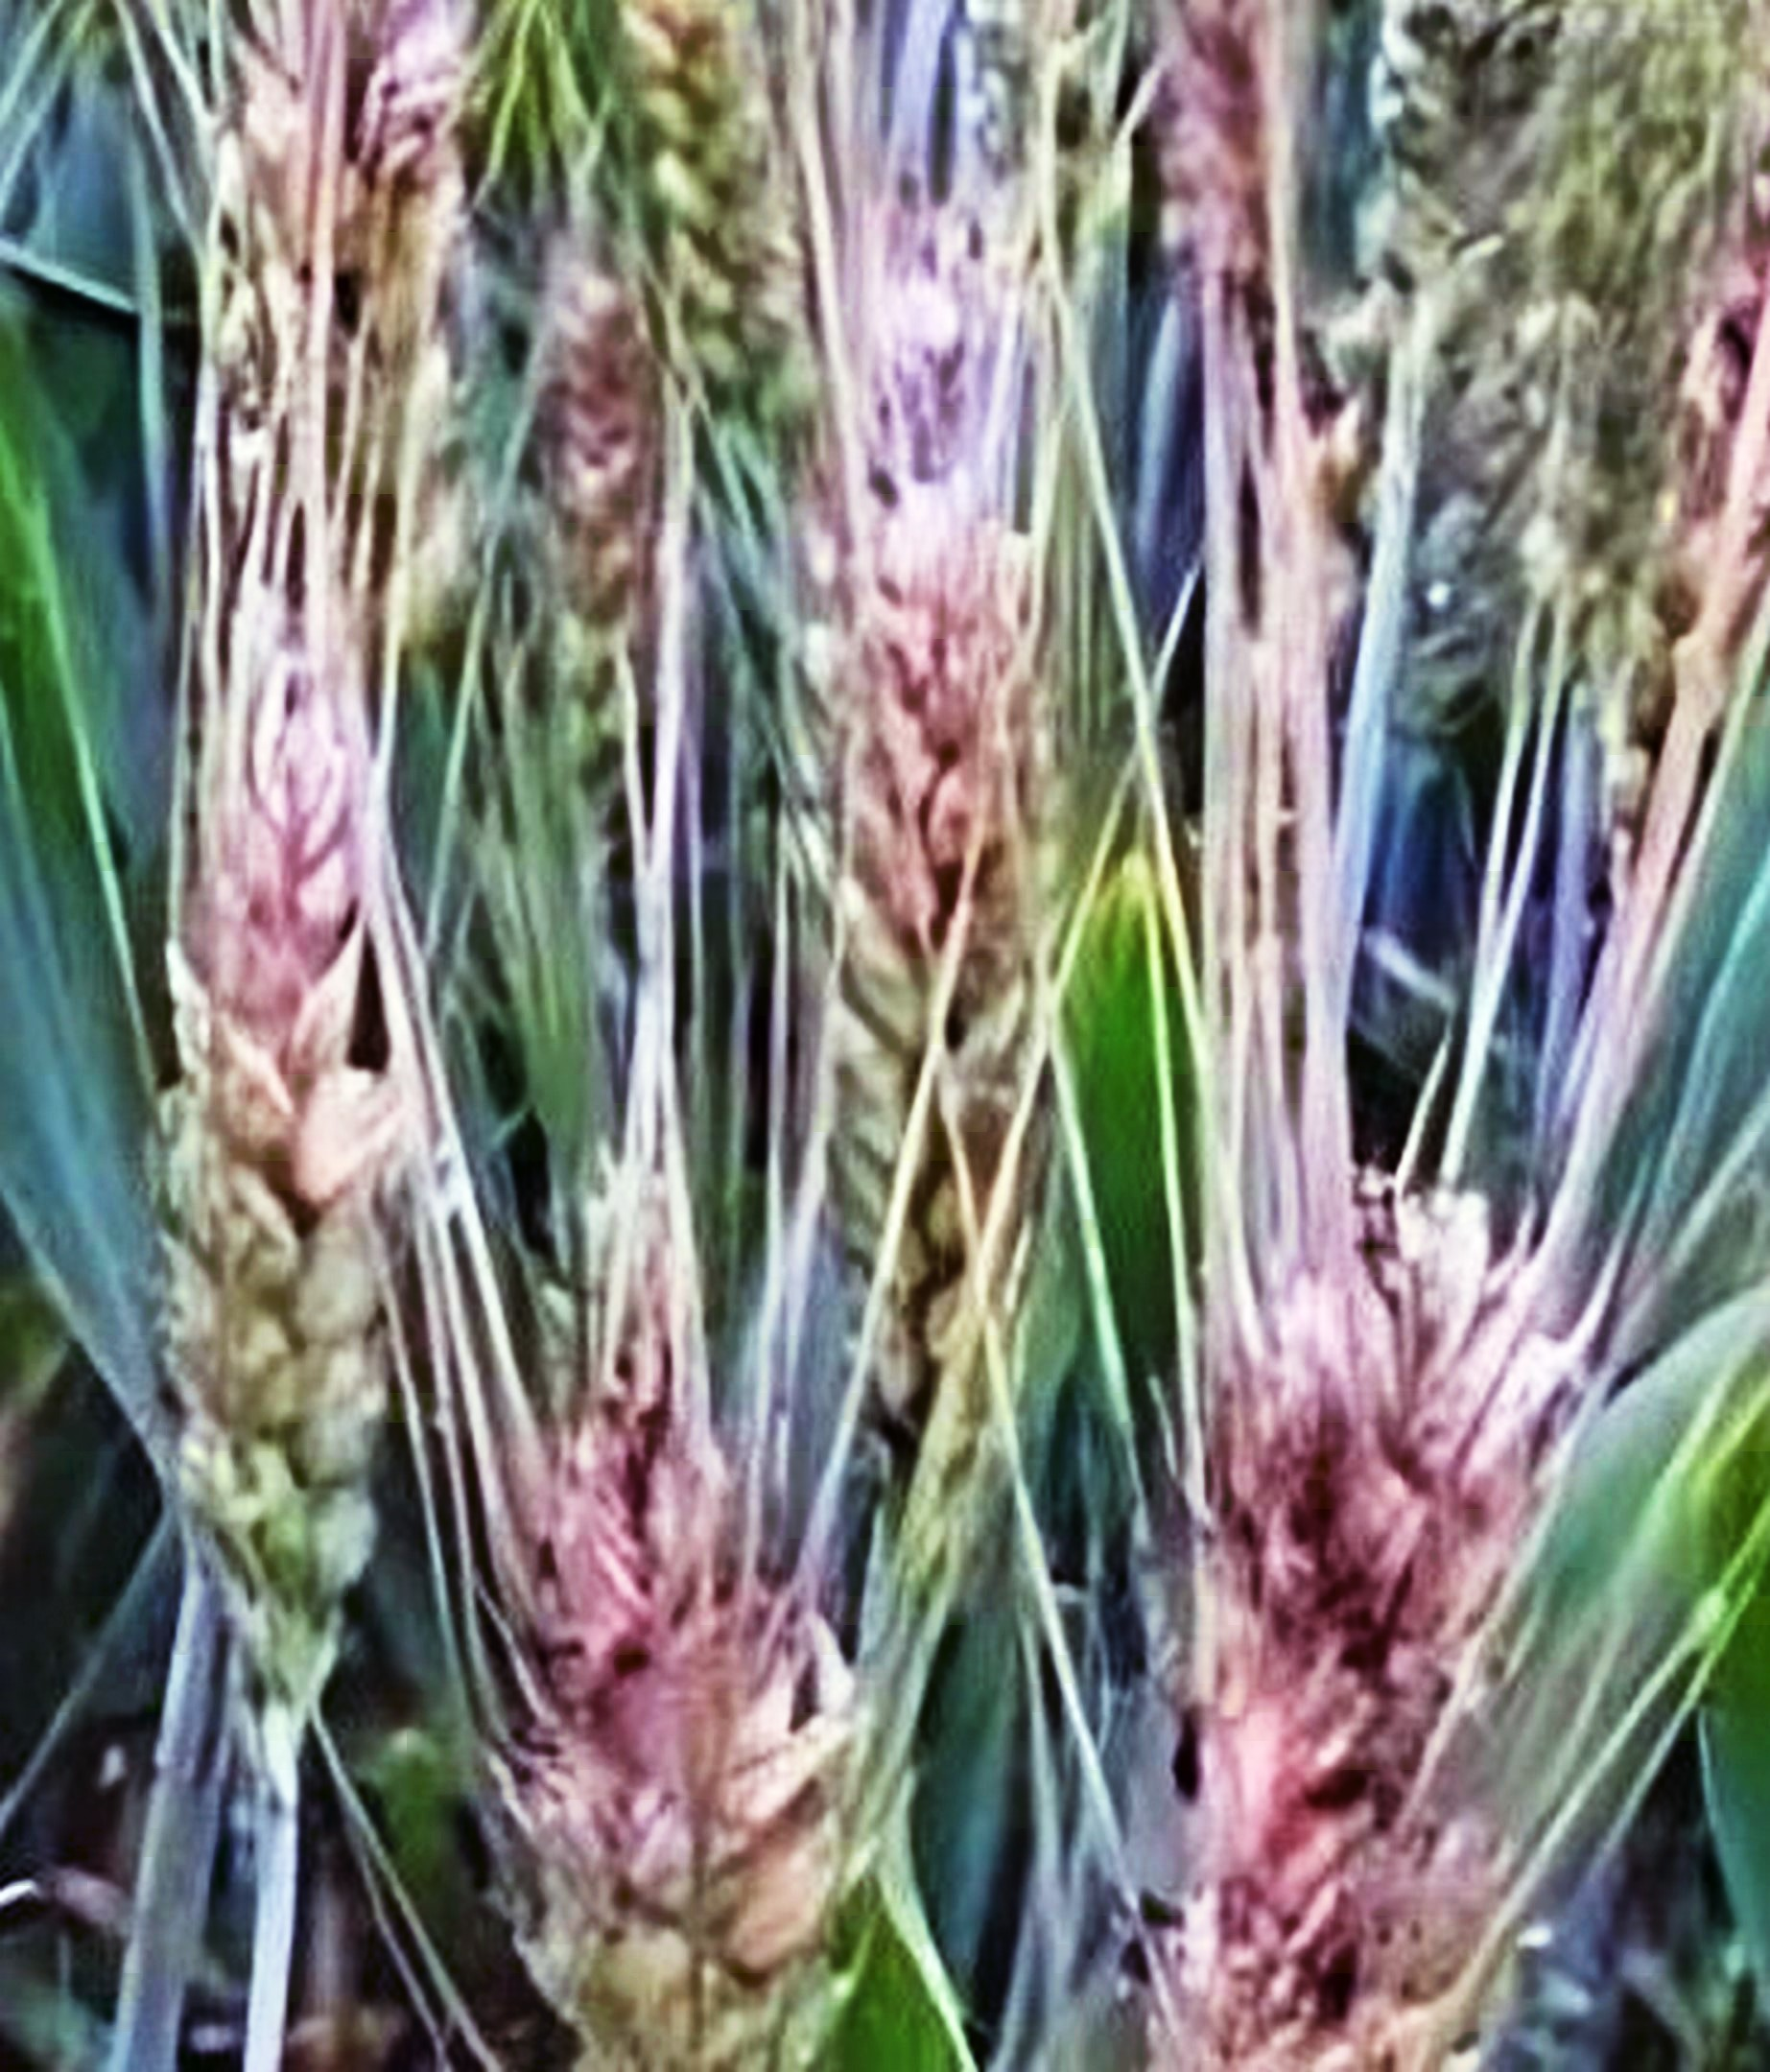Wheat scab: (140, 627, 376, 1649)
